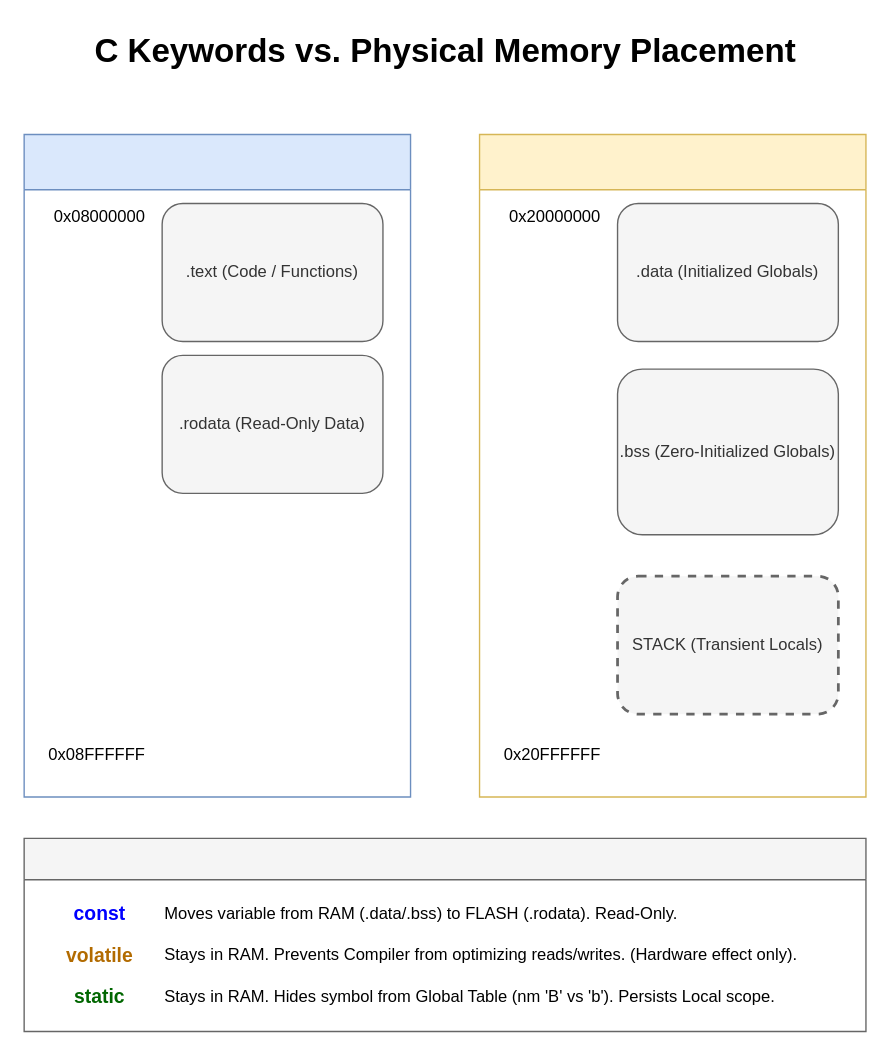
Some shapes in this 890 by 1056 pixel diagram are drawn without their labels. The shapes that lost their labels are listed below. From the top down, each one's box as (x1, y1, x2, y2) in pixels, then its label:
(23, 133, 411, 797): FLASH Memory (ROM)
(478, 133, 866, 797): SRAM (RAM)
(23, 837, 866, 1032): Keyword Impact Key
